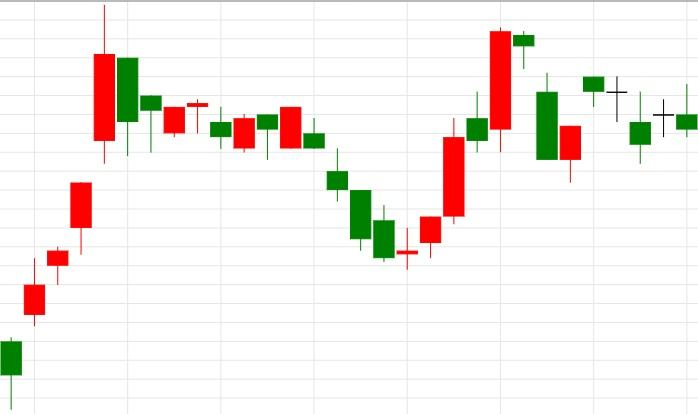morning_star_rise: (279, 106, 442, 270)
